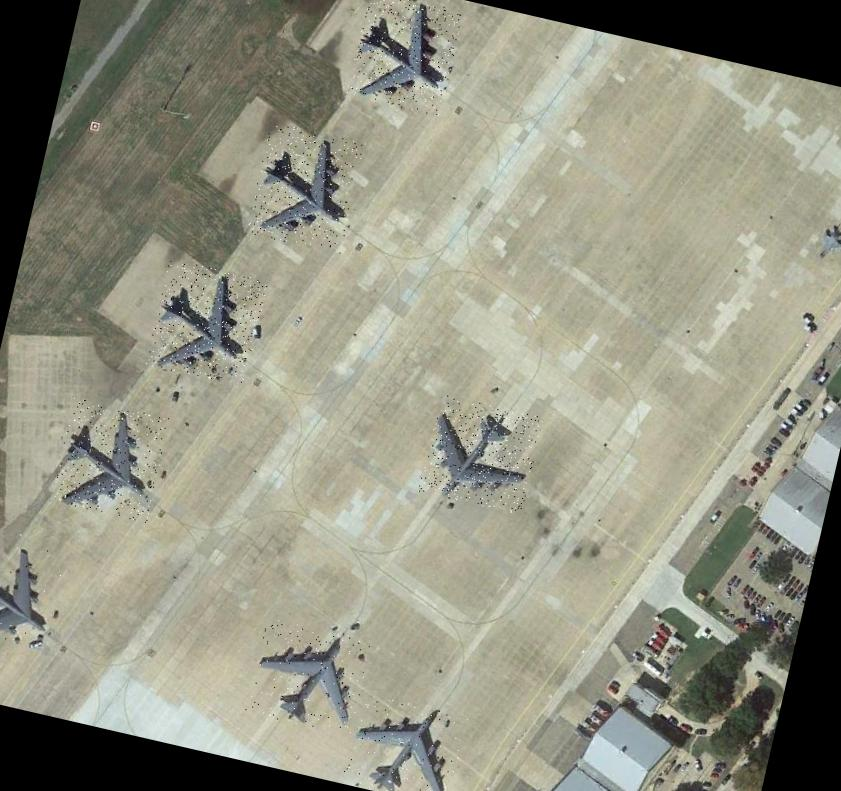A8: (246, 121, 366, 254), (145, 258, 268, 387), (244, 616, 372, 737), (418, 393, 544, 514), (50, 396, 170, 523), (345, 0, 463, 116), (341, 690, 469, 791), (0, 533, 65, 659)
